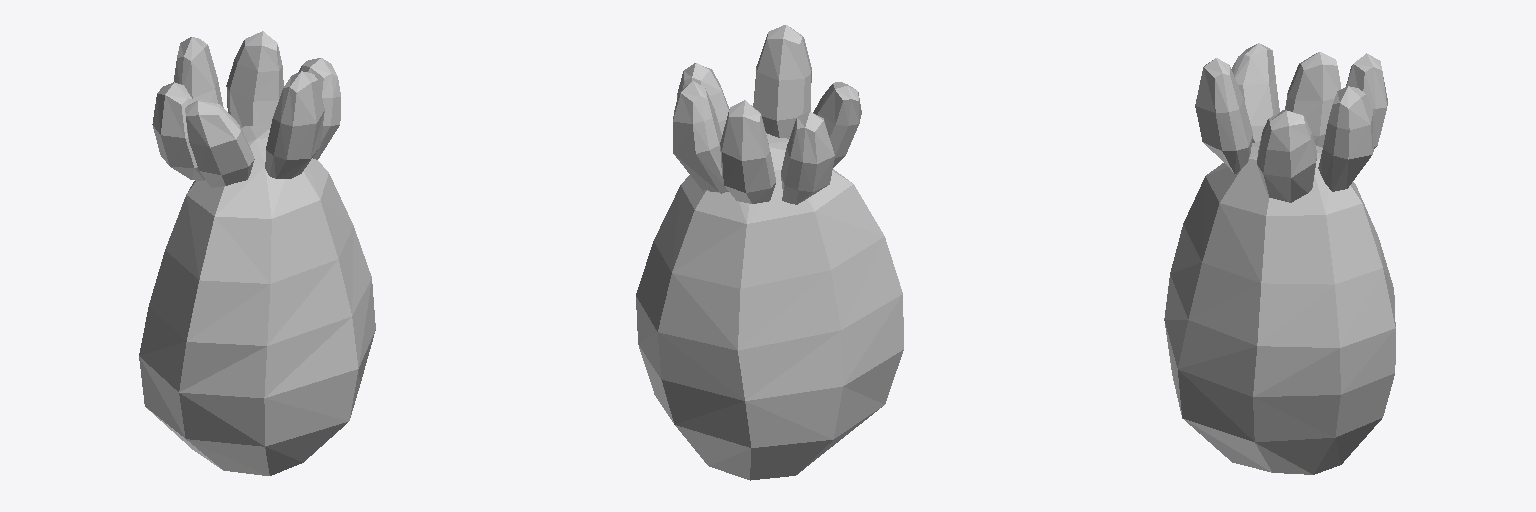
Rendered from Sponge_A_01_LOD1.obj.
3 renders of one model, left to right at view 1: azimuth 30°, elevation 25°; view 2: azimuth 150°, elevation 25°; view 3: azimuth 270°, elevation 25°, orthographic.
Parts seen in each view (by area): view 1: Sponge_A_01_LOD1_Cylinder.380; view 2: Sponge_A_01_LOD1_Cylinder.380; view 3: Sponge_A_01_LOD1_Cylinder.380.
Boxes of the visible parts, <box> form: Sponge_A_01_LOD1_Cylinder.380: <box>139,31,375,475</box>; Sponge_A_01_LOD1_Cylinder.380: <box>636,25,903,480</box>; Sponge_A_01_LOD1_Cylinder.380: <box>1164,43,1395,474</box>.
Size of the model in its own units: 2.46 by 4.53 by 2.32.